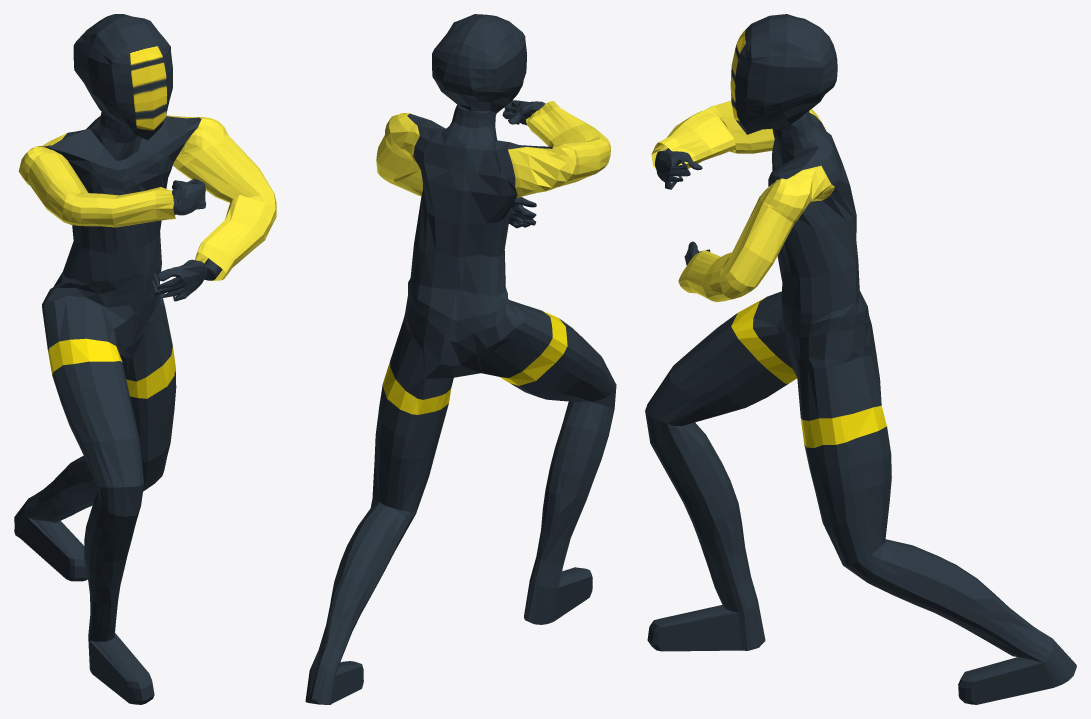
File: Sentry_Hit_Stun_Recover_000001.obj
3 views of the same model, side by side, from view 1: azimuth 30°, elevation 25°; view 2: azimuth 150°, elevation 25°; view 3: azimuth 270°, elevation 25° (orthographic). The views are drawn at different scales.
Parts seen in each view (by area): view 1: Cube; view 2: Cube; view 3: Cube.
Boxes of the visible parts, left/top/right/bottom form: Cube: left=14, top=14, right=276, bottom=704; Cube: left=305, top=14, right=616, bottom=704; Cube: left=645, top=14, right=1076, bottom=704.
Bounding box in the file's own units: 1.3 × 3.48 × 2.06.
